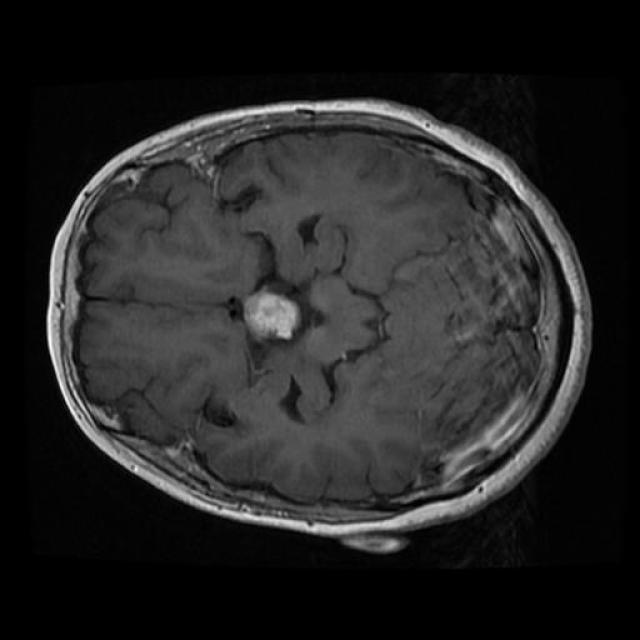Pituitary: (243, 286, 301, 341)
